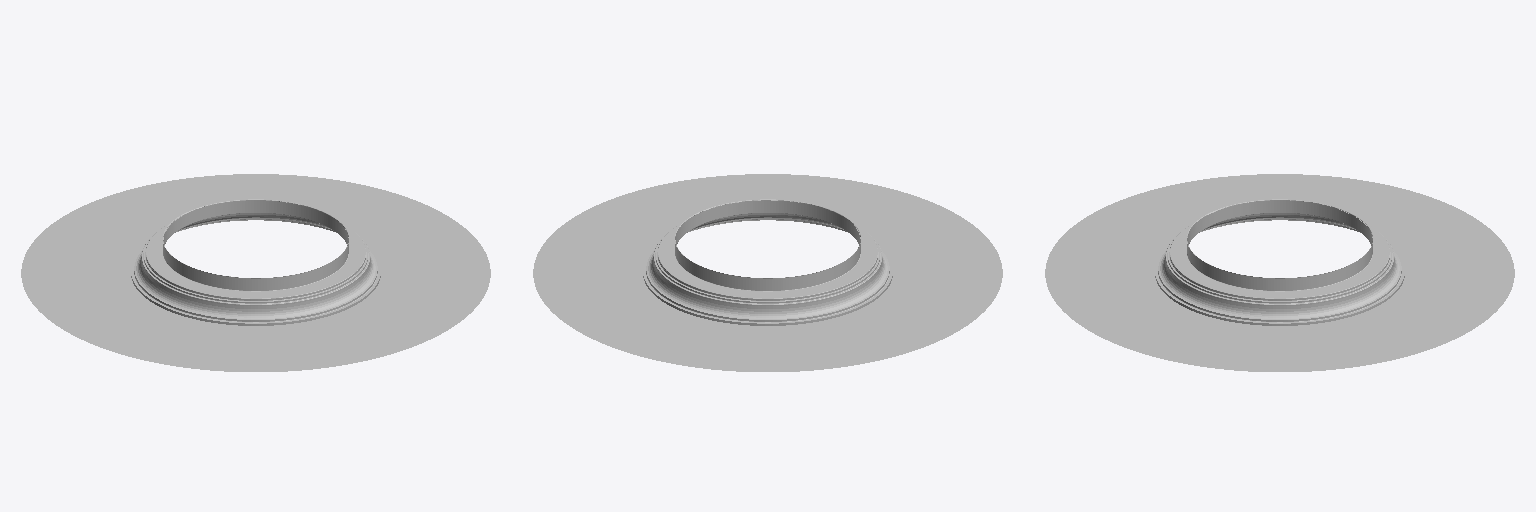
File: celing.obj
3 views of the same model, side by side, from view 1: azimuth 30°, elevation 25°; view 2: azimuth 150°, elevation 25°; view 3: azimuth 270°, elevation 25° (orthographic).
Visible parts, largest first — view 1: Building_C_Untitled.133; view 2: Building_C_Untitled.133; view 3: Building_C_Untitled.133.
Part boxes in pixels (x1,y1,x2,y2): Building_C_Untitled.133: (21, 174, 490, 371); Building_C_Untitled.133: (533, 174, 1002, 371); Building_C_Untitled.133: (1045, 174, 1514, 371).
Size of the model in its own units: 6.52 by 0.5277 by 6.52.